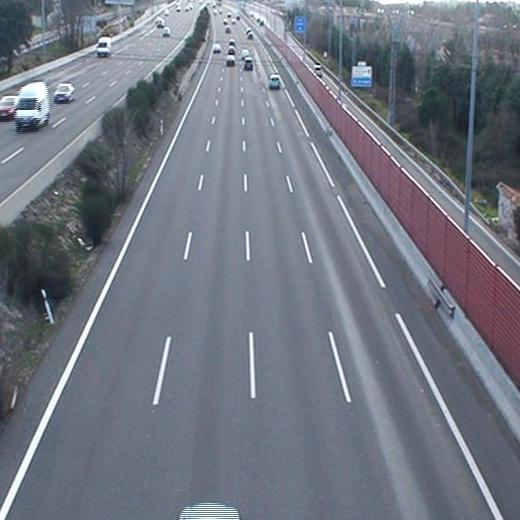car: (268, 74, 282, 89), (225, 53, 237, 68), (243, 56, 254, 72)
